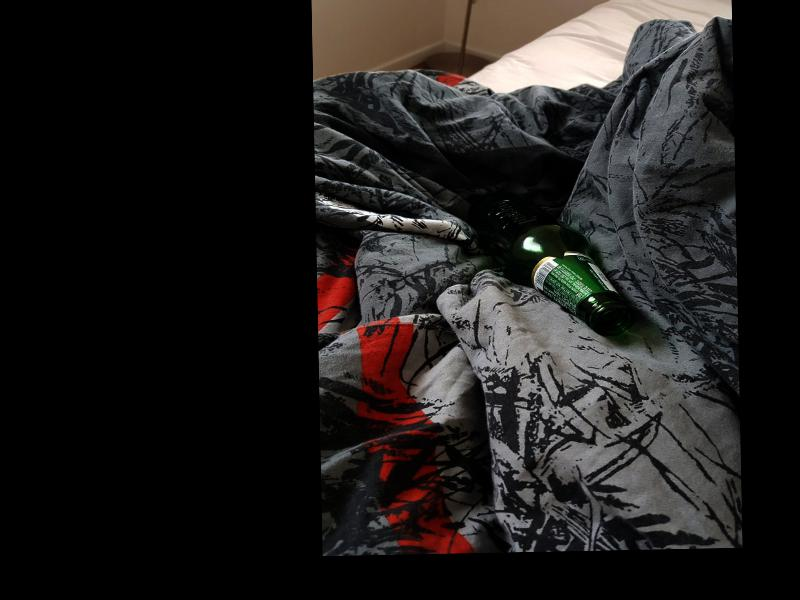Beer: (466, 190, 633, 339)
